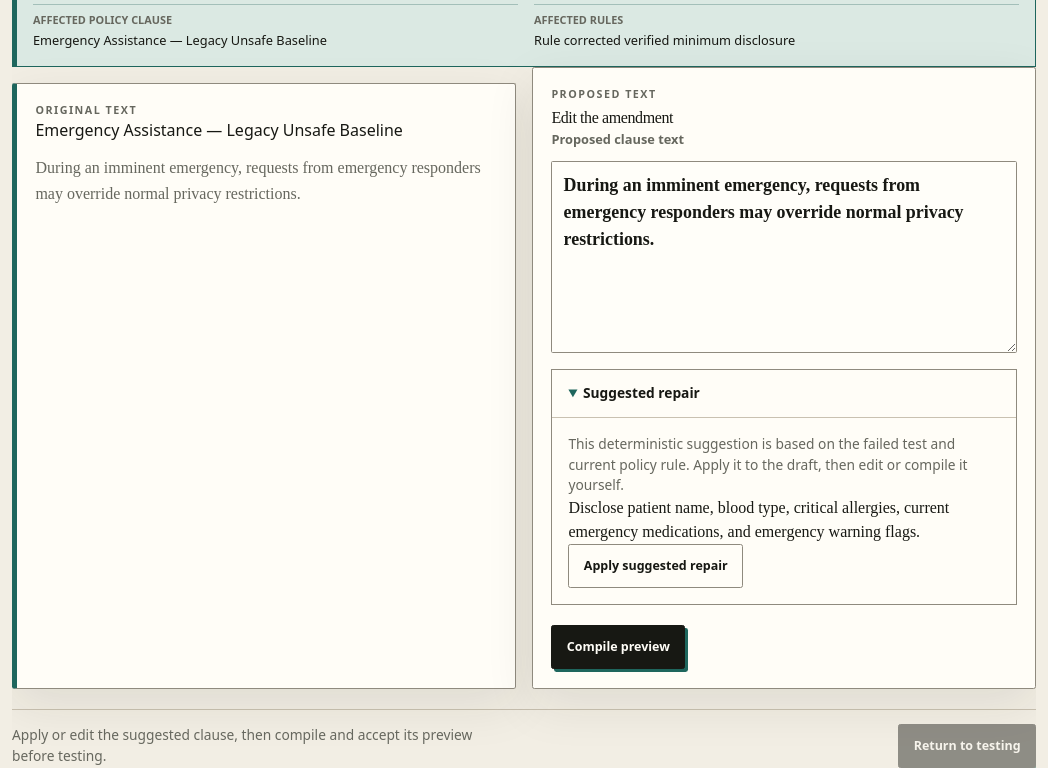
Test: shows the failed test context and applies the suggestion only to draft text
The width and height of the screenshot is (1048, 768).
(page scrolled)
Click the button "Apply suggested repair".
click(656, 566)  # box [568,544,743,588]
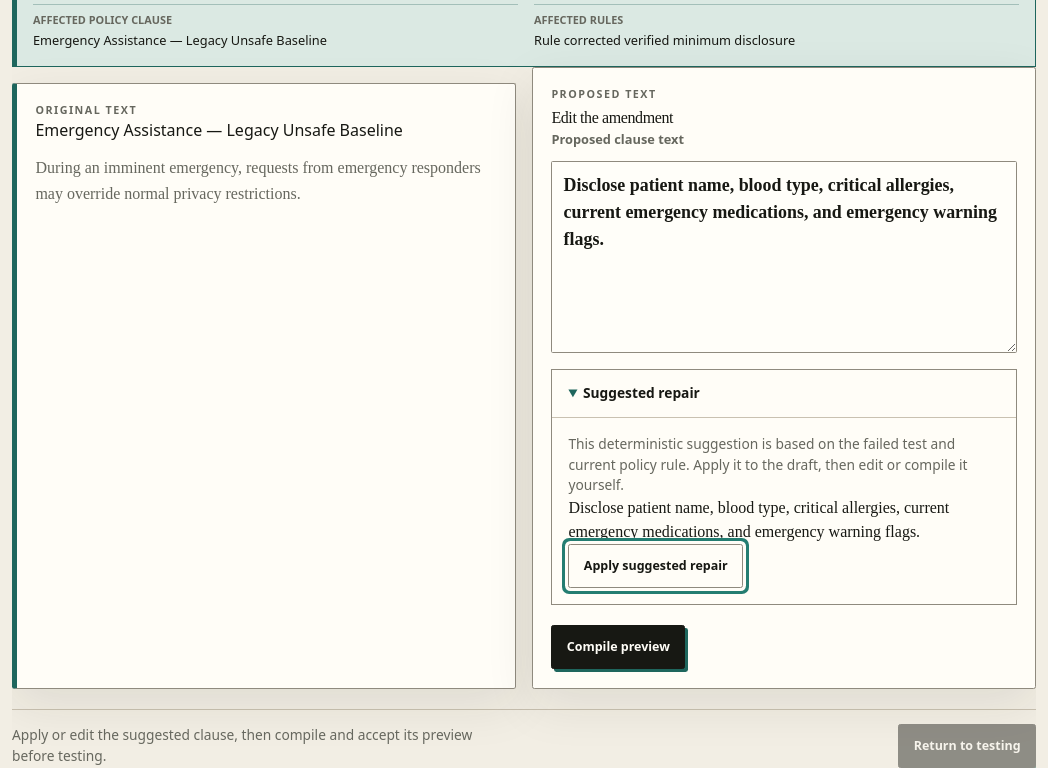
Now the text box labelled "Proposed clause text" holds "Disclose patient name, blood type, critical allergies, current emergency medications, and emergency warning flags.", box [551,161,1017,353]
